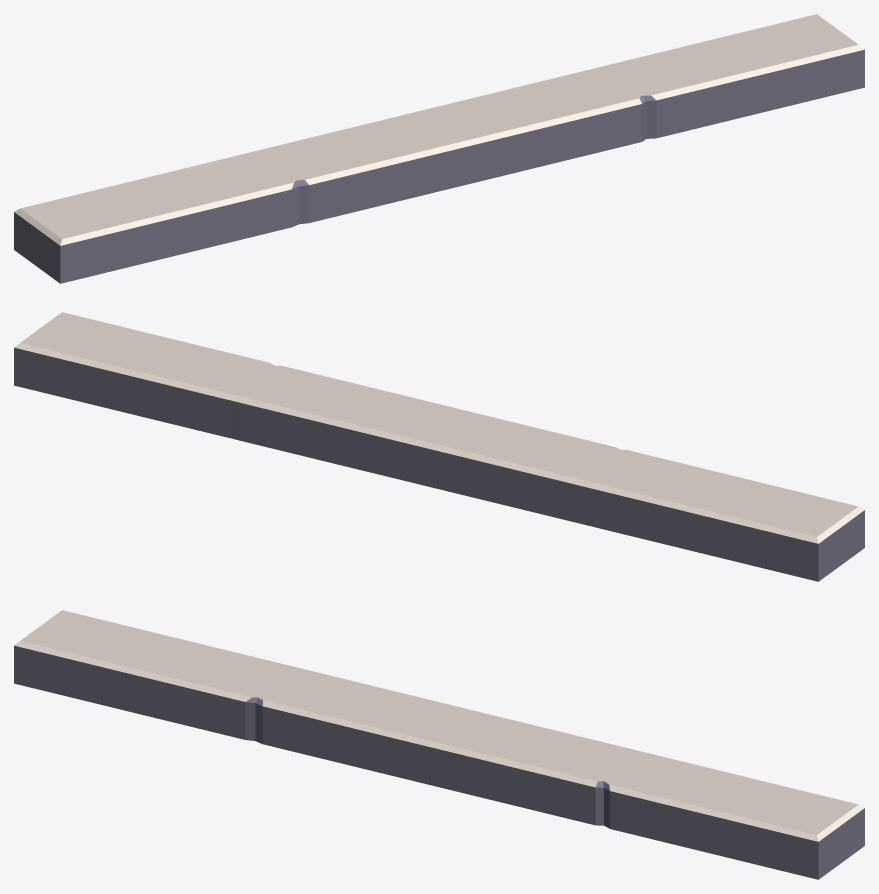
File: rocarect3.fbx
3 renders of one model, top to bottom at view 1: azimuth 30°, elevation 25°; view 2: azimuth 150°, elevation 25°; view 3: azimuth 330°, elevation 25°, orthographic.
Visible parts, largest first — view 1: rocarect3; view 2: rocarect3; view 3: rocarect3.
Part boxes in pixels (x1=…): rocarect3: x1=14, y1=14, x2=864, y2=283; rocarect3: x1=14, y1=312, x2=864, y2=581; rocarect3: x1=14, y1=610, x2=864, y2=879.
Size of the model in its own units: 2000 by 100 by 200.
